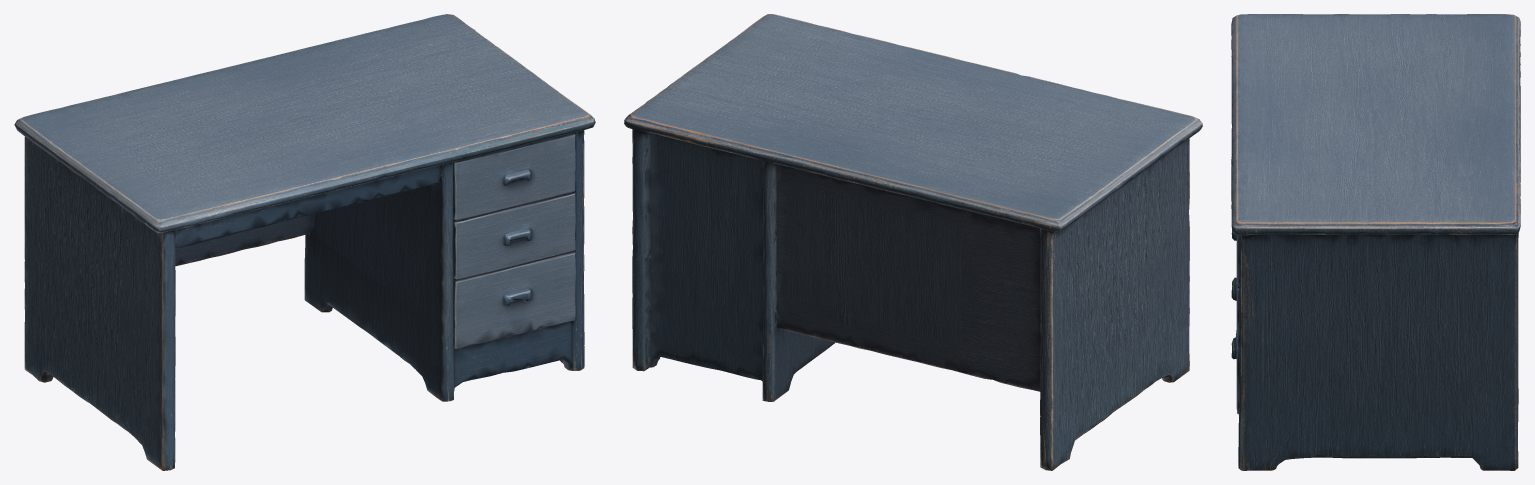
File: VAR_Bedroom_Desk.fbx
The picture shows the model from 3 angles, left to right: view 1: azimuth 30°, elevation 25°; view 2: azimuth 150°, elevation 25°; view 3: azimuth 270°, elevation 25°; orthographic projection.
Visible parts, largest first — view 1: texture_mapping; view 2: texture_mapping; view 3: texture_mapping.
Boxes of the visible parts, bbox=[...] form: texture_mapping: bbox=[14, 14, 595, 470]; texture_mapping: bbox=[624, 14, 1202, 470]; texture_mapping: bbox=[1231, 14, 1520, 470].
Size of the model in its own units: 0.9909 by 0.5695 by 0.5484.
Materials: 1 (1 with a texture image).
